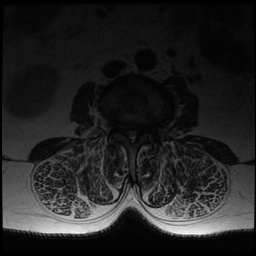CCS_severe_stenosis: (129, 122, 135, 146)
LFS_severe_stenosis: (143, 120, 150, 140)
LLS_severe_stenosis: (136, 123, 143, 141)
RFS_severe_stenosis: (115, 118, 122, 139)
RLS_severe_stenosis: (122, 122, 129, 139)
